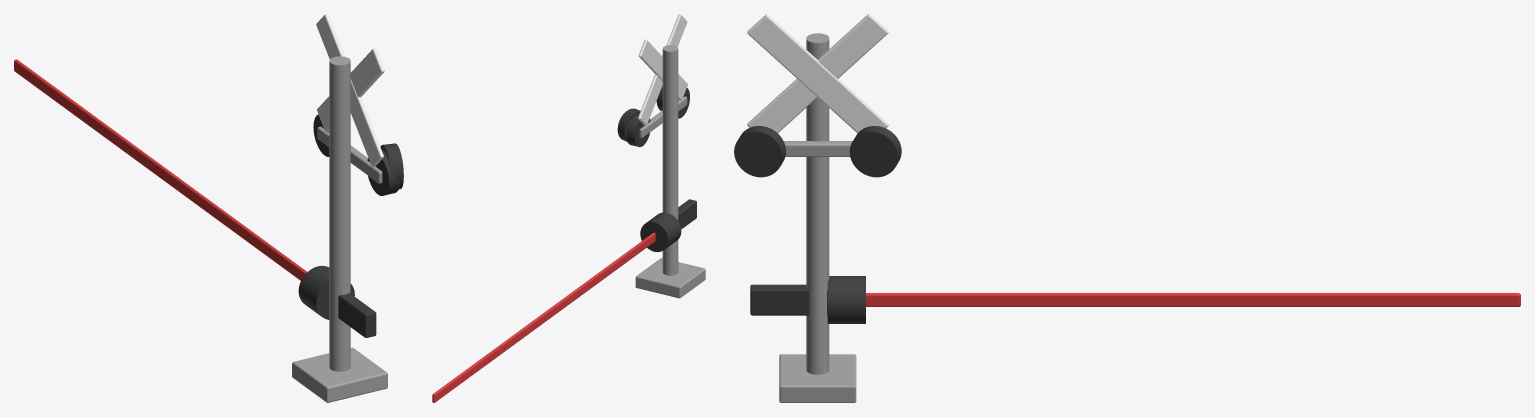
File: Railway Crossing.fbx
3 renders of one model, left to right at view 1: azimuth 30°, elevation 25°; view 2: azimuth 150°, elevation 25°; view 3: azimuth 270°, elevation 25°, orthographic. The views are drawn at different scales.
Parts seen in each view (by area): view 1: Main_Post, Boom_Gate, Base_Pad, Sign_Cross_1, Motor_Housing, Sign_Cross_2, Counterweight, Light_Mount_Bar, Light_Housing_L, Light_Hood_L; view 2: Main_Post, Boom_Gate, Base_Pad, Motor_Housing, Sign_Cross_2, Sign_Cross_1, Light_Housing_R, Counterweight, Light_Mount_Bar, Light_Hood_R; view 3: Boom_Gate, Main_Post, Sign_Cross_2, Sign_Cross_1, Base_Pad, Light_Hood_R, Light_Hood_L, Counterweight, Motor_Housing, Light_Mount_Bar.
Part boxes in pixels (<box>): Main_Post: <box>329,56,350,371</box>; Boom_Gate: <box>14,59,306,280</box>; Base_Pad: <box>292,347,387,402</box>; Sign_Cross_1: <box>316,14,383,166</box>; Motor_Housing: <box>298,265,354,319</box>; Sign_Cross_2: <box>317,48,384,132</box>; Counterweight: <box>338,293,376,337</box>; Light_Mount_Bar: <box>317,126,382,183</box>; Light_Housing_L: <box>367,150,400,195</box>; Light_Hood_L: <box>380,143,403,189</box>; Main_Post: <box>662,45,678,275</box>; Boom_Gate: <box>432,232,655,402</box>; Base_Pad: <box>635,258,705,298</box>; Motor_Housing: <box>640,212,681,252</box>; Sign_Cross_2: <box>638,14,687,125</box>; Sign_Cross_1: <box>638,39,687,100</box>; Light_Housing_R: <box>626,115,650,147</box>; Counterweight: <box>678,199,696,229</box>; Light_Mount_Bar: <box>639,96,687,137</box>; Light_Hood_R: <box>617,108,640,141</box>; Boom_Gate: <box>866,293,1520,306</box>; Main_Post: <box>806,33,829,374</box>; Sign_Cross_2: <box>747,14,888,133</box>; Sign_Cross_1: <box>747,14,888,132</box>; Base_Pad: <box>779,354,856,402</box>; Light_Hood_R: <box>849,126,901,177</box>; Light_Hood_L: <box>734,126,785,177</box>; Counterweight: <box>750,284,827,315</box>; Motor_Housing: <box>827,276,865,323</box>; Light_Mount_Bar: <box>783,141,852,156</box>.
Bounding box in the file's own units: 85.97 × 433 × 817.
